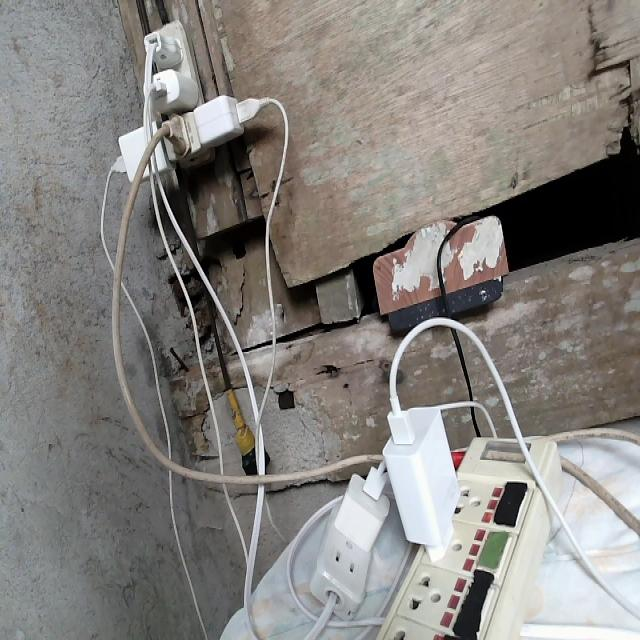-: (91, 7, 296, 221)
